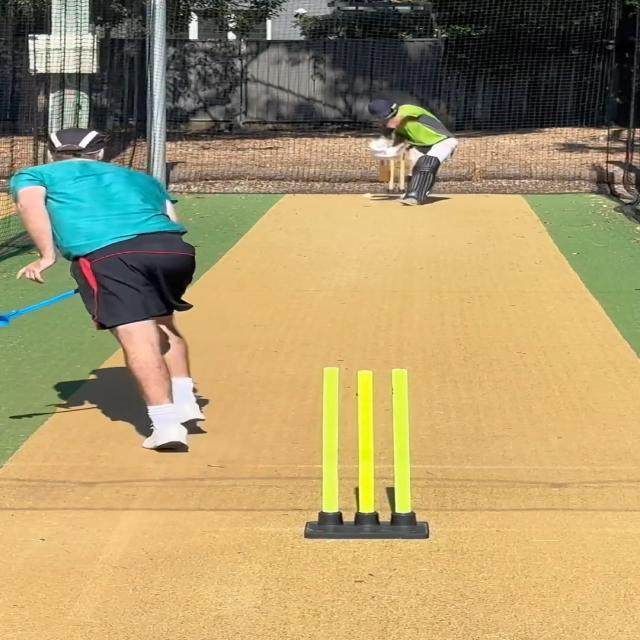stump: (305, 364, 431, 542), (390, 153, 412, 196)
